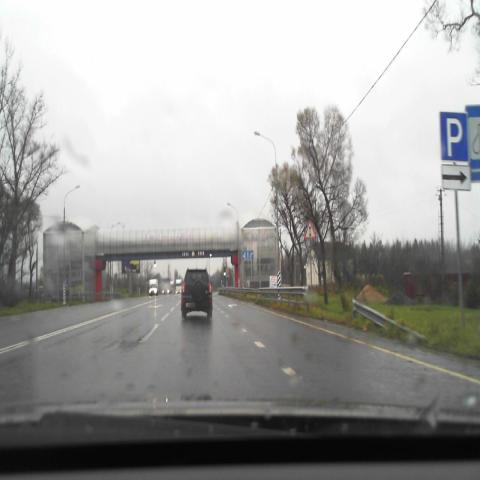8_3_1: (441, 164, 471, 191)
